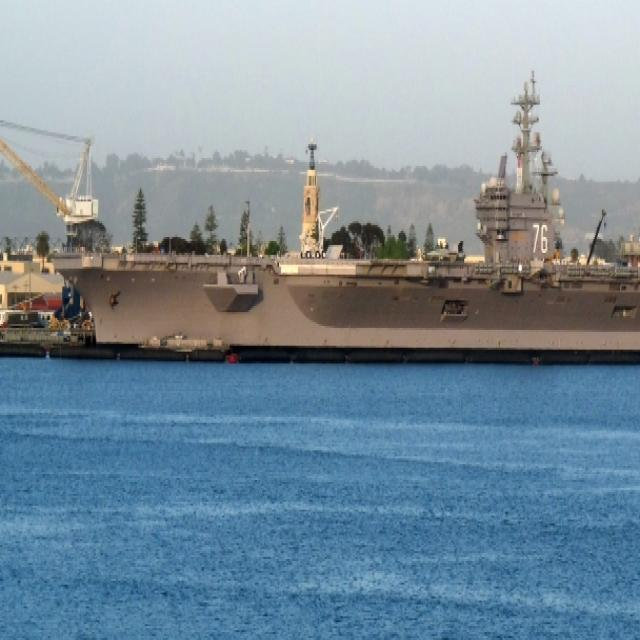Portanaves: (40, 57, 640, 369)
